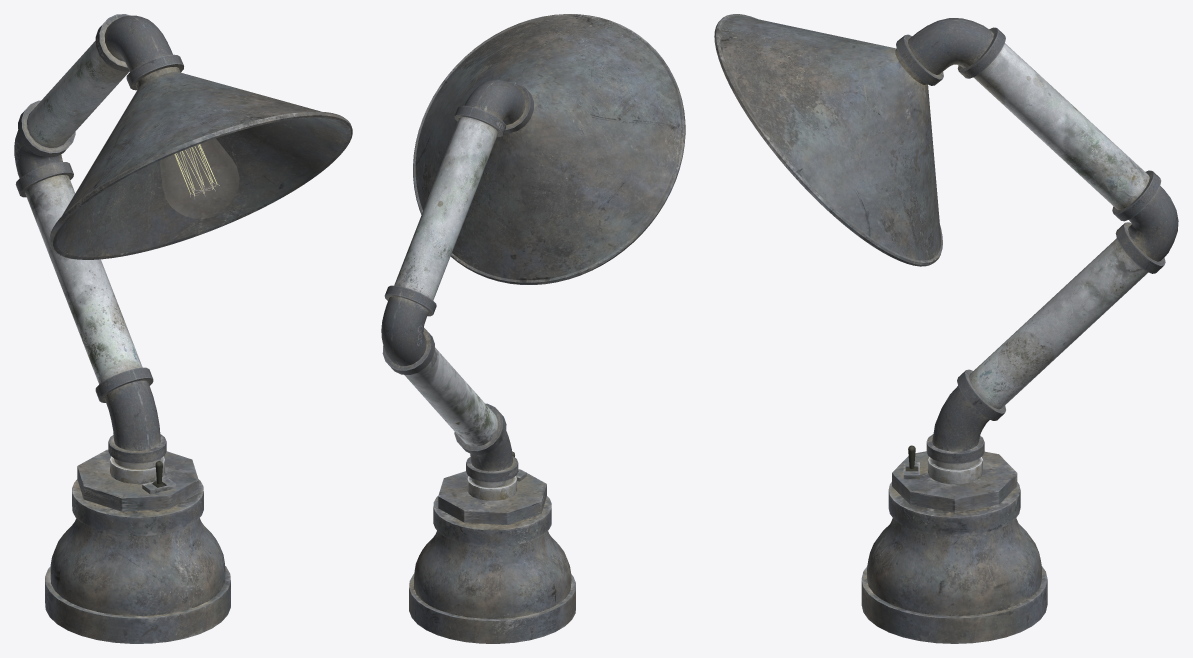
3 renders of one model, left to right at view 1: azimuth 30°, elevation 25°; view 2: azimuth 150°, elevation 25°; view 3: azimuth 270°, elevation 25°, orthographic. The views are drawn at different scales.
Visible parts, largest first — view 1: industrial_pipe_lamp, industrial_pipe_lamp_bulb; view 2: industrial_pipe_lamp; view 3: industrial_pipe_lamp.
Boxes of the visible parts, x1,y1,x2,y2 form: industrial_pipe_lamp: [14, 14, 352, 643]; industrial_pipe_lamp_bulb: [160, 138, 239, 218]; industrial_pipe_lamp: [381, 14, 685, 643]; industrial_pipe_lamp: [714, 14, 1178, 643].
Size of the model in its own units: 0.183 by 0.3641 by 0.2621.
Materials: 2 (2 with a texture image).
